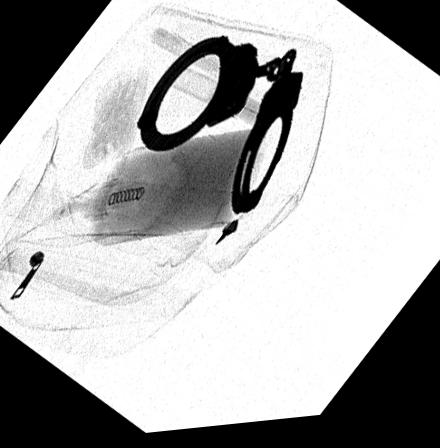HandCuffs: (134, 39, 304, 220)
